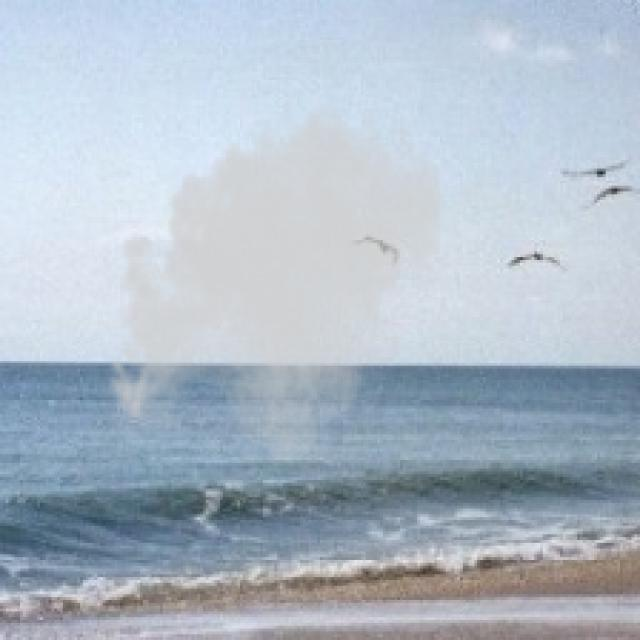Smoke: (97, 91, 452, 466)
